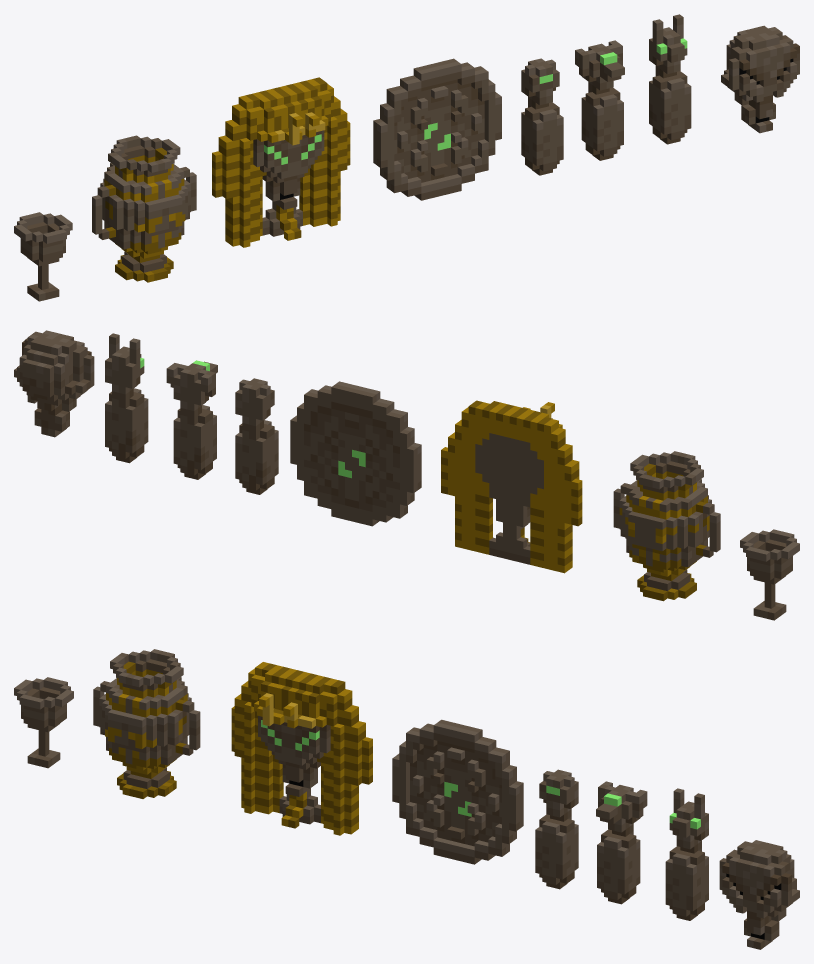
The model's file is artifacts.obj.
The picture shows the model from 3 angles, top to bottom: view 1: azimuth 30°, elevation 25°; view 2: azimuth 150°, elevation 25°; view 3: azimuth 330°, elevation 25°; orthographic projection. The views are drawn at different scales.
Bounding box in the file's own units: 11.4 × 2 × 1.1.
1 material, 1 textured.
